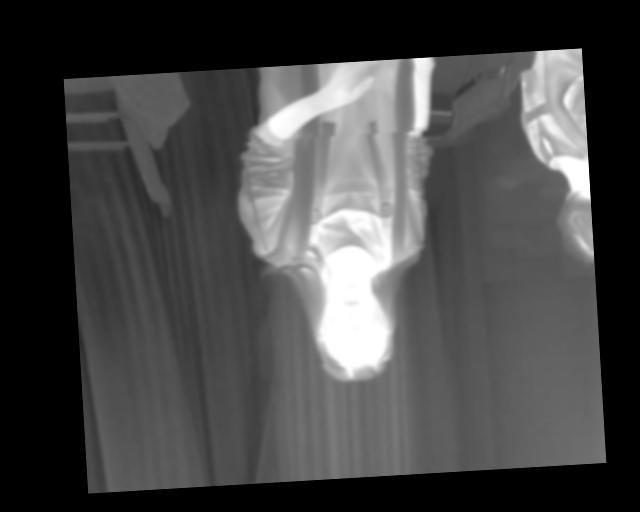face: (313, 281, 396, 383)
